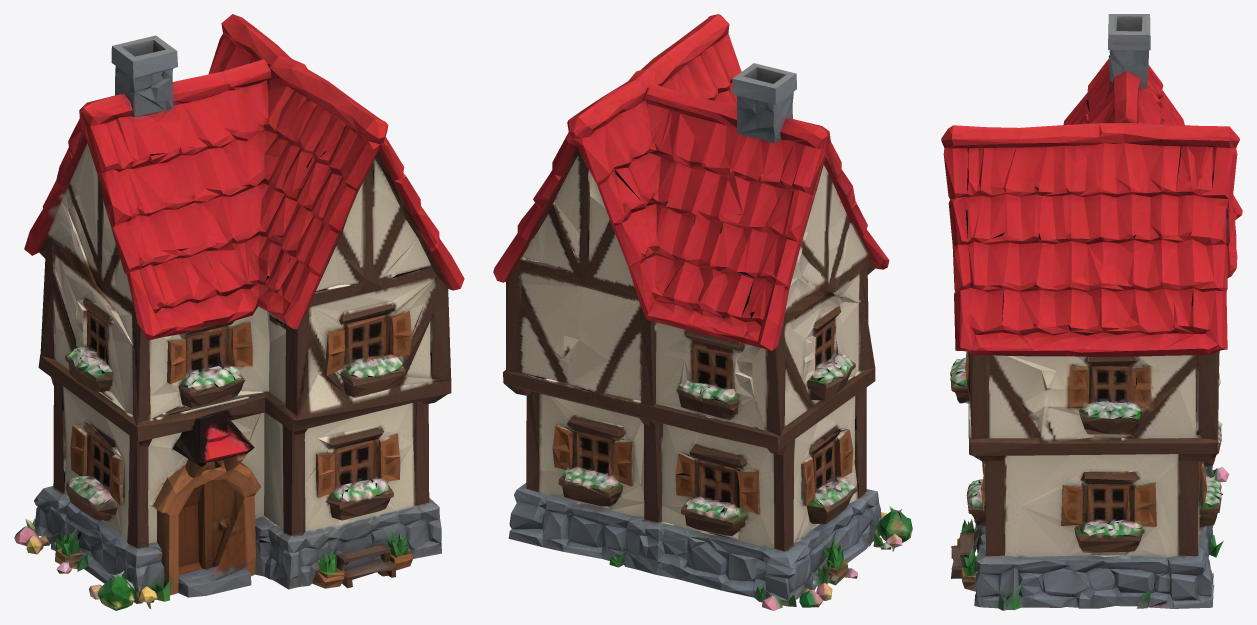
The model's file is house_terra_6_opt8000.glb.
The picture shows the model from 3 angles, left to right: view 1: azimuth 30°, elevation 25°; view 2: azimuth 150°, elevation 25°; view 3: azimuth 270°, elevation 25°; orthographic projection. The views are drawn at different scales.
Visible parts, largest first — view 1: opt8000; view 2: opt8000; view 3: opt8000.
Boxes of the visible parts, bbox=[...] form: opt8000: bbox=[14, 14, 464, 610]; opt8000: bbox=[493, 14, 912, 610]; opt8000: bbox=[941, 14, 1242, 610].
Bounding box in the file's own units: 1.34 × 1.9 × 1.08.
1 material, 1 textured.
